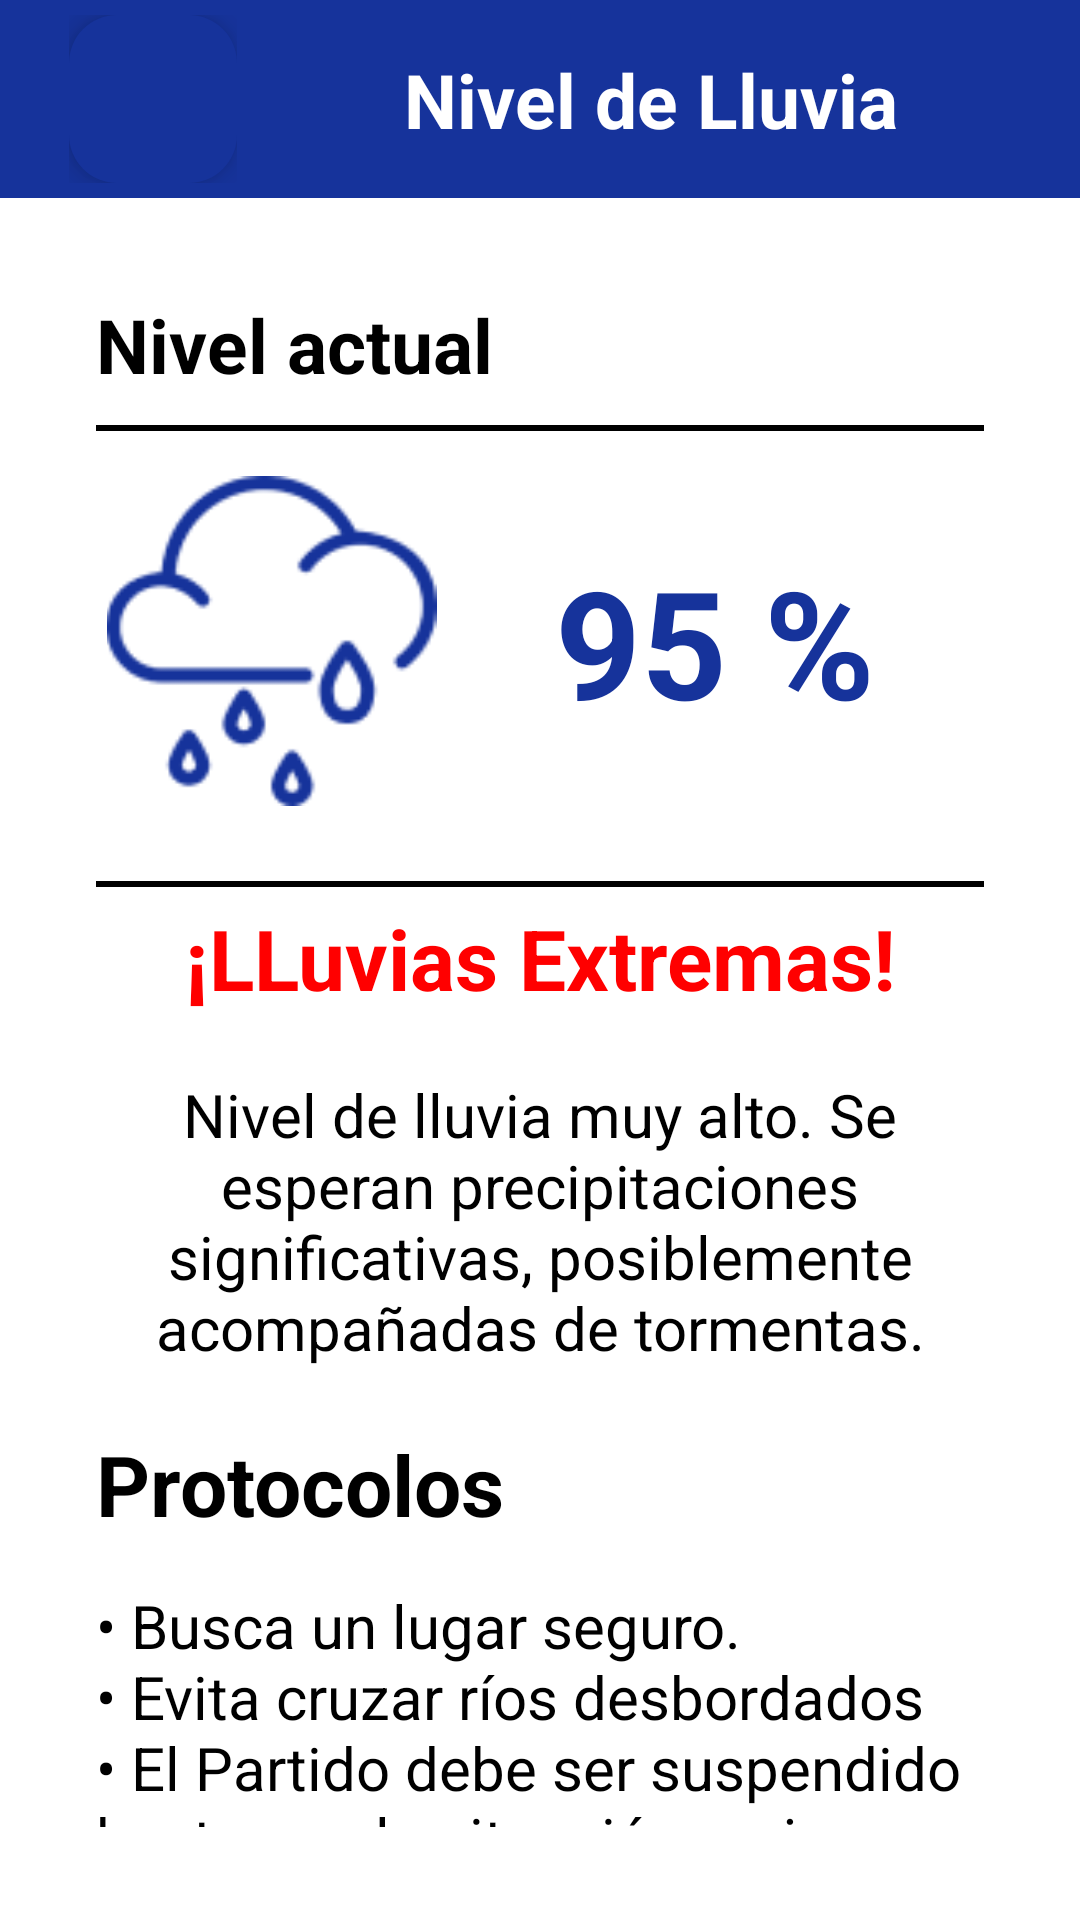

Screen size 1080 x 1920. Icon name, then its center in pixels as (x,y):
lluviaazul: (272,641)
